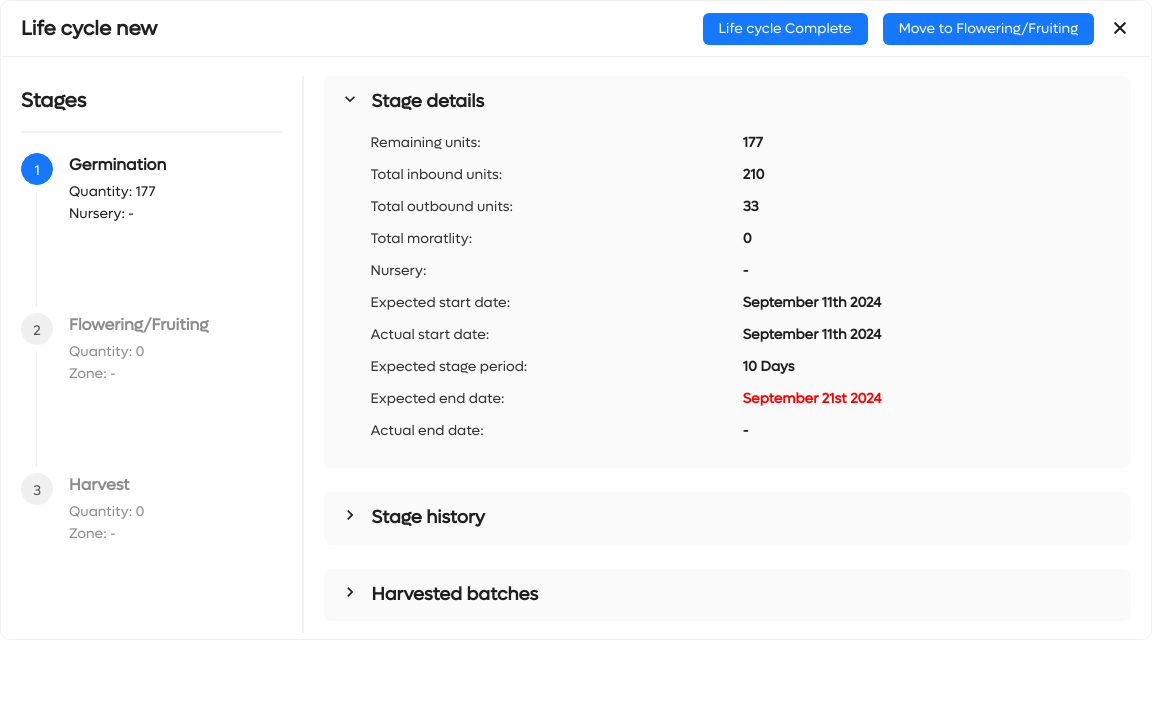
Test: Add Update lifecycle page › Move crop to different stage process loading
The width and height of the screenshot is (1152, 720).
Click the button "Move to Flowering/Fruiting": (988, 28) [883,12,1094,44]
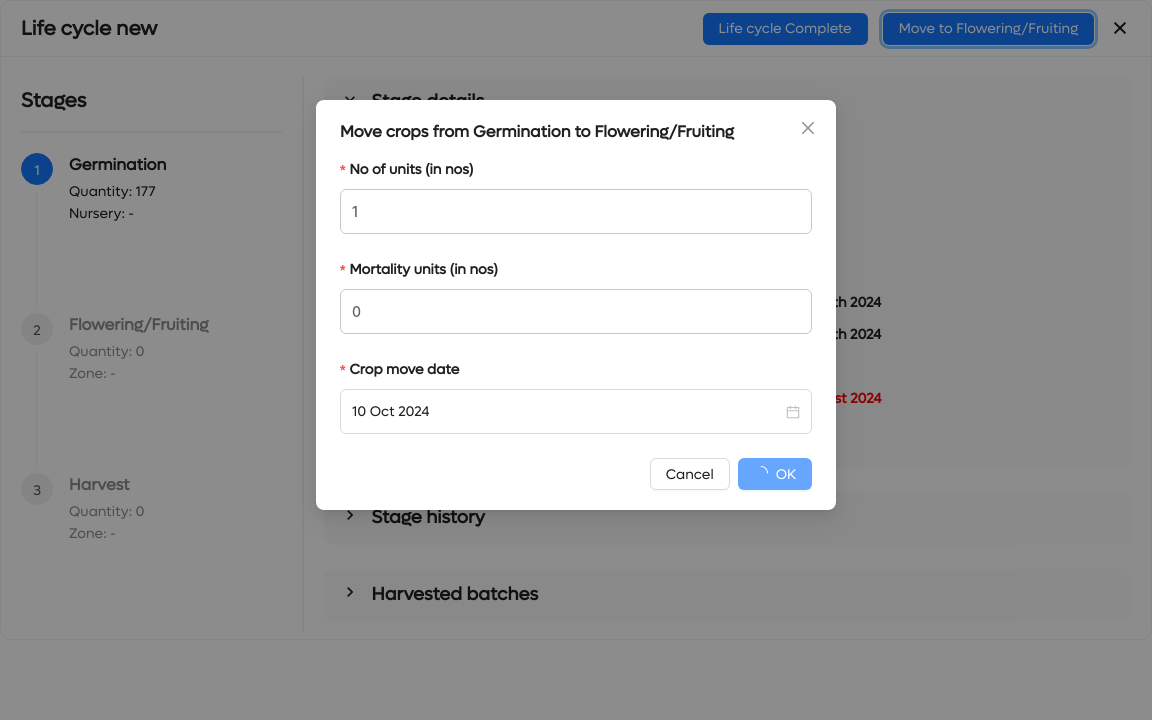
expect the text "Move crops from Germination to Flowering/Fruiting" is shown: met, box [340,121,734,142]
expect the button named "loading OK" is shown: met, box [738,458,812,490]
